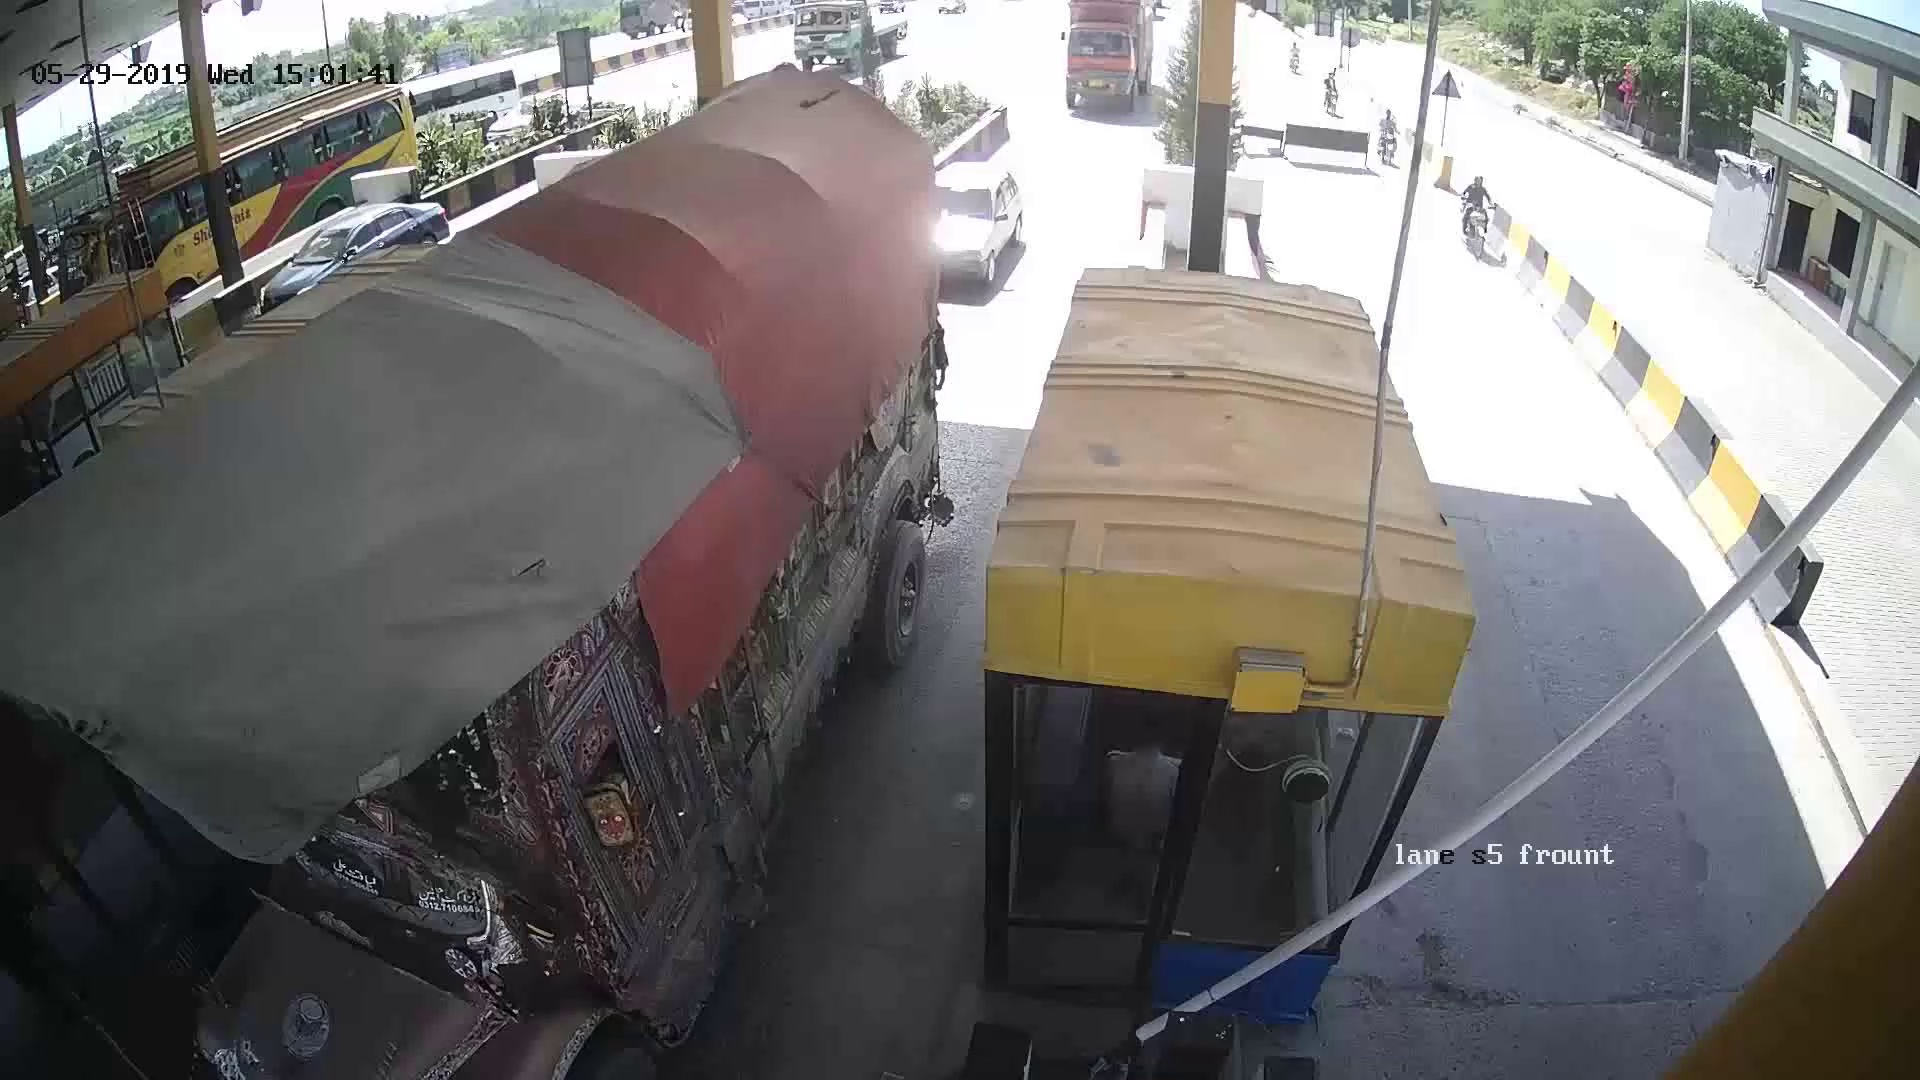car: (924, 145, 1033, 309)
truck: (174, 422, 822, 1000), (1055, 18, 1149, 113)
